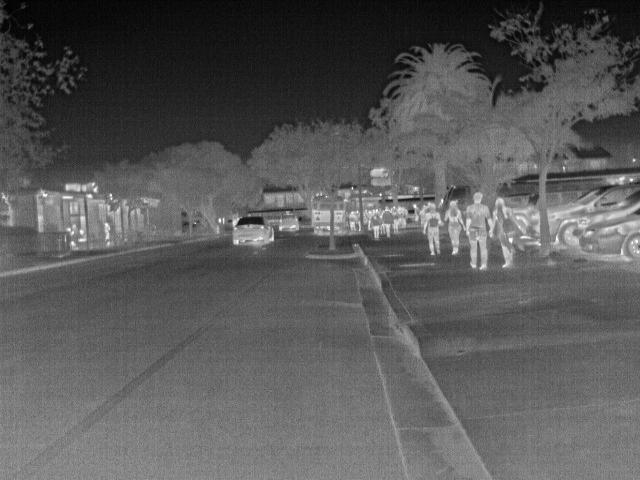car: (548, 181, 636, 248), (578, 202, 639, 264), (230, 214, 275, 248), (510, 203, 540, 237), (277, 211, 299, 231)
person: (466, 193, 494, 271), (490, 198, 519, 269), (443, 199, 471, 256), (422, 205, 442, 257), (368, 208, 382, 239), (381, 208, 394, 236), (66, 222, 78, 250), (347, 208, 359, 233), (102, 219, 114, 242), (353, 208, 363, 233), (75, 228, 89, 243)
